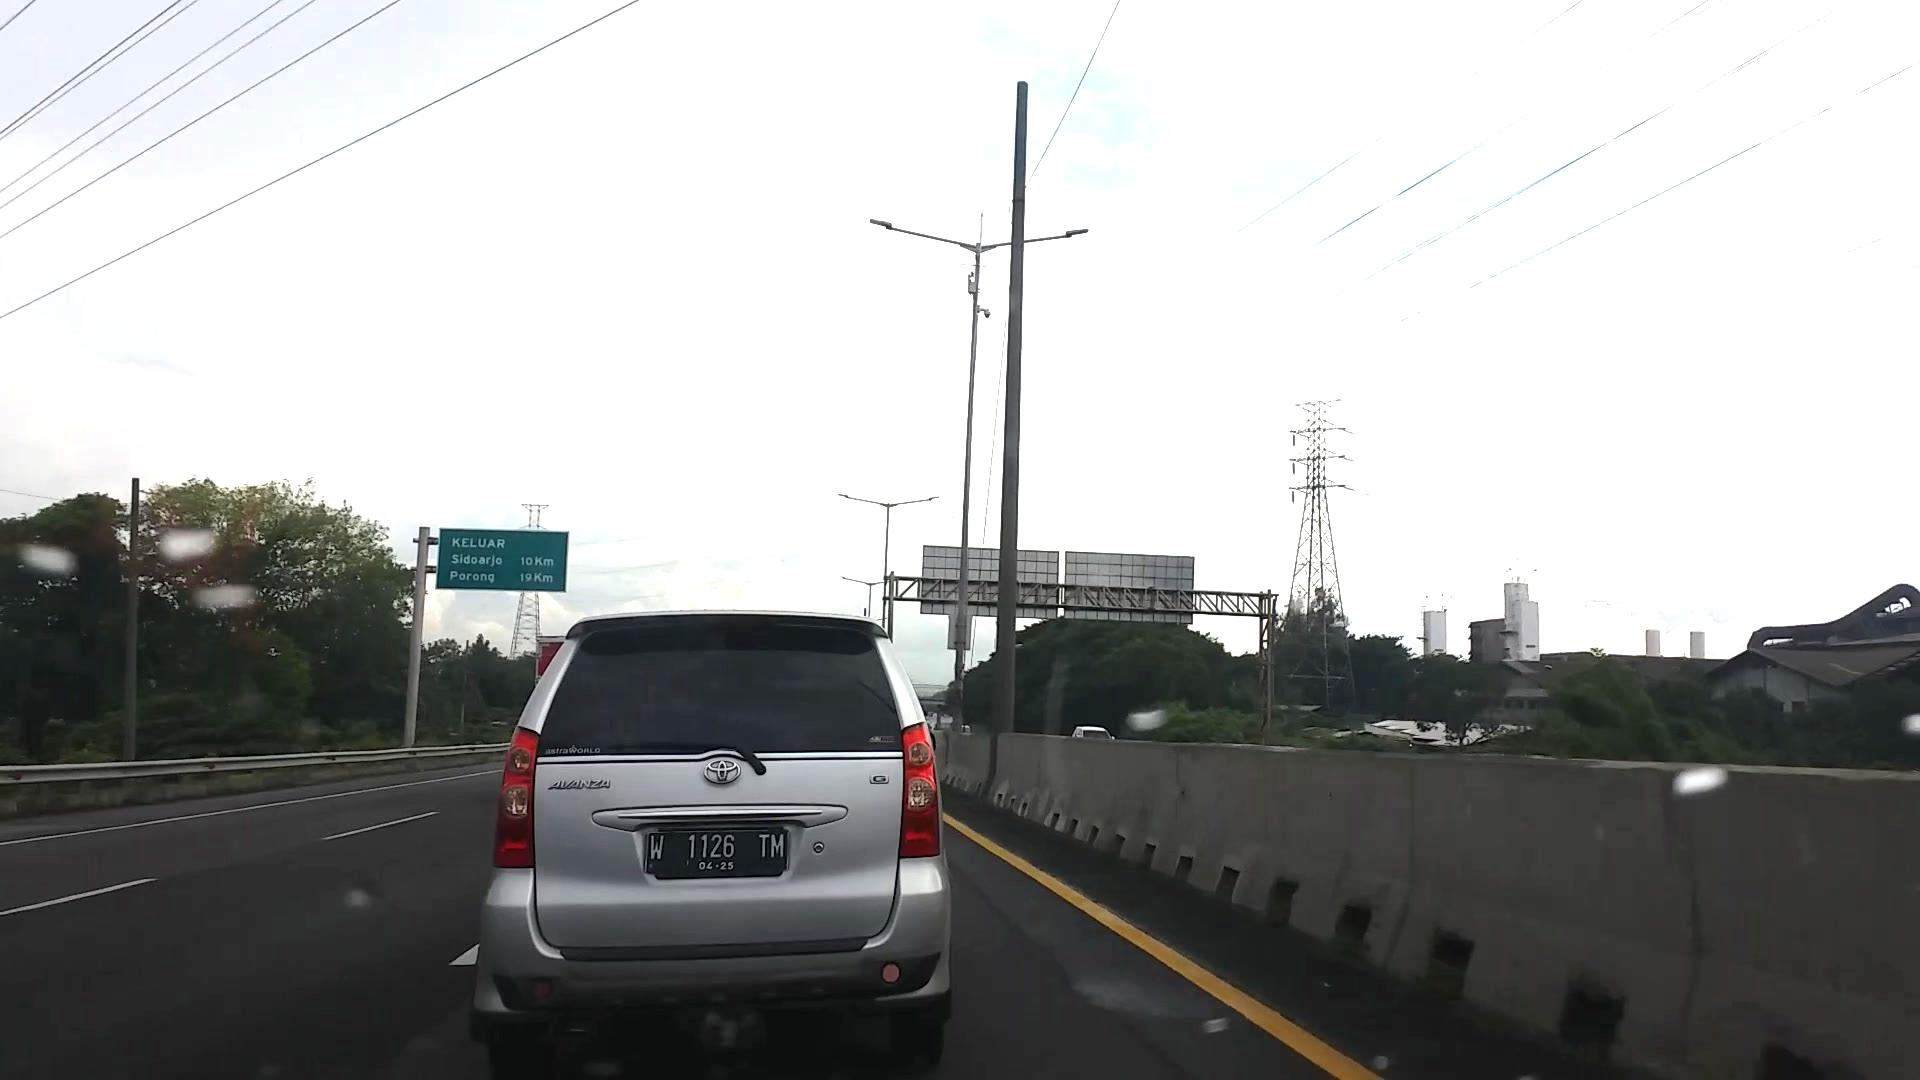plate_positive: (644, 831, 787, 872)
